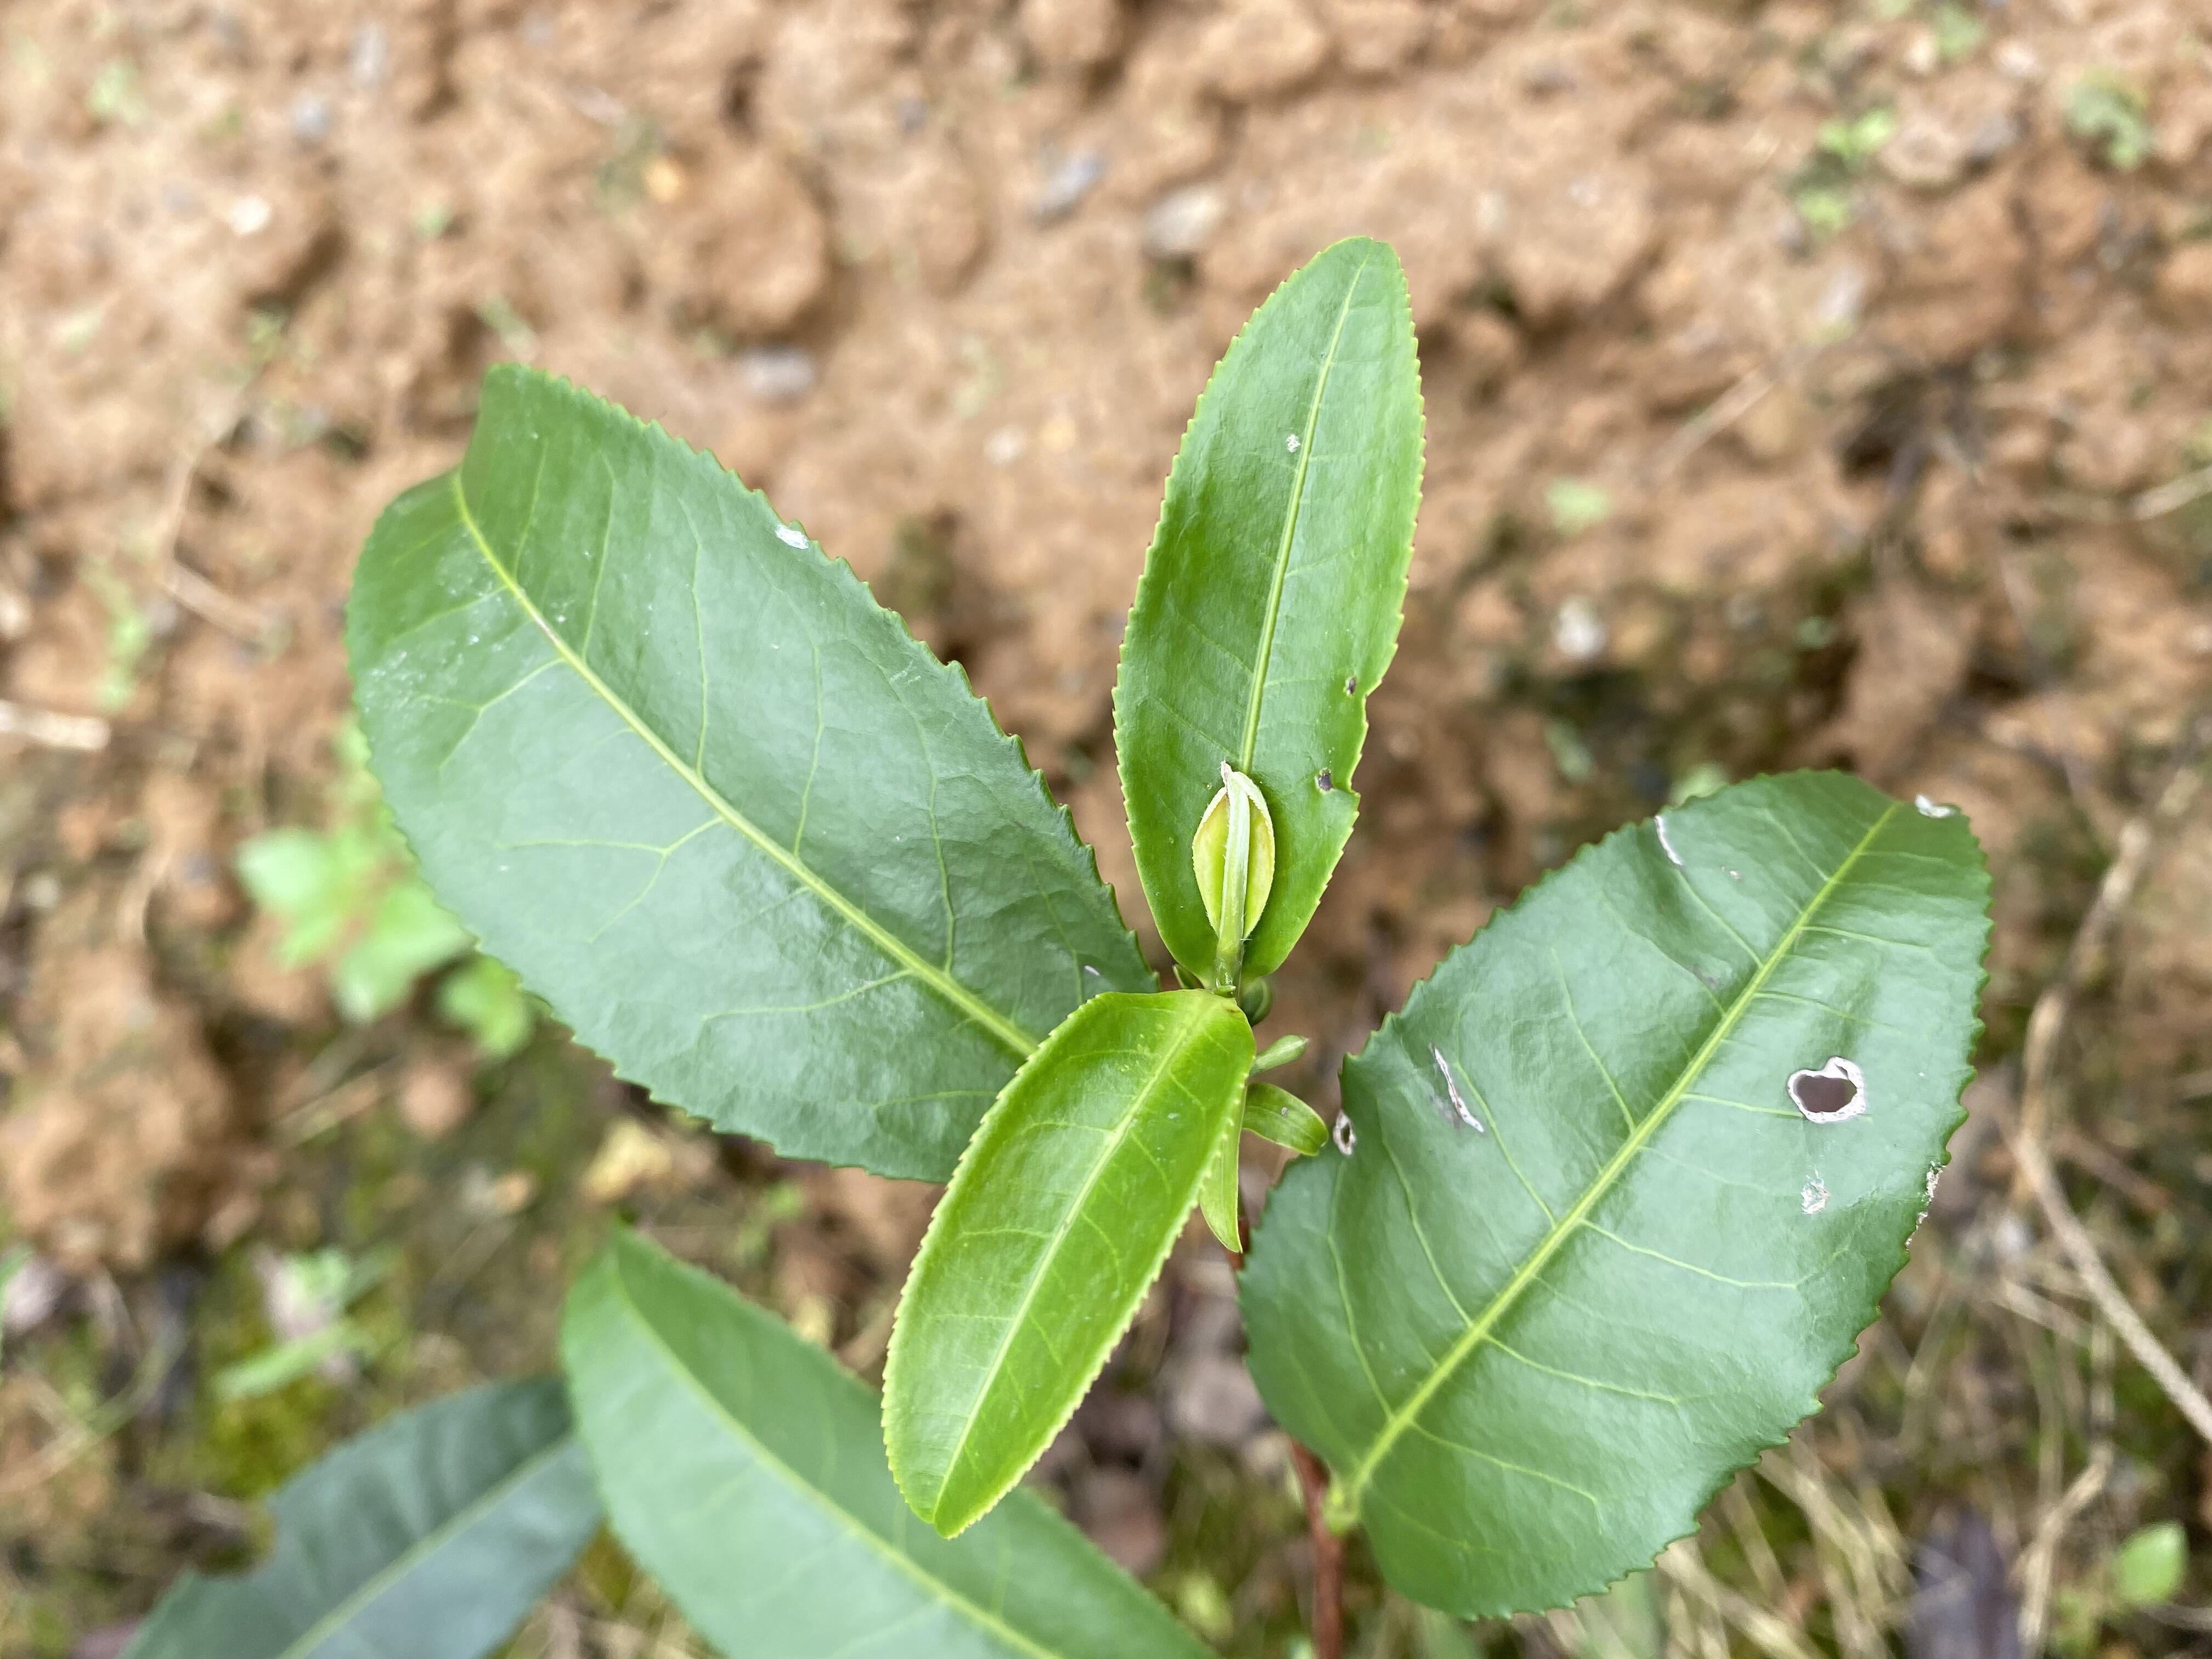chihuo_low: (1240, 765, 1994, 1624), (113, 1375, 610, 1657)
healthy: (880, 990, 1254, 1537)
tanju_low: (1111, 234, 1428, 986)
